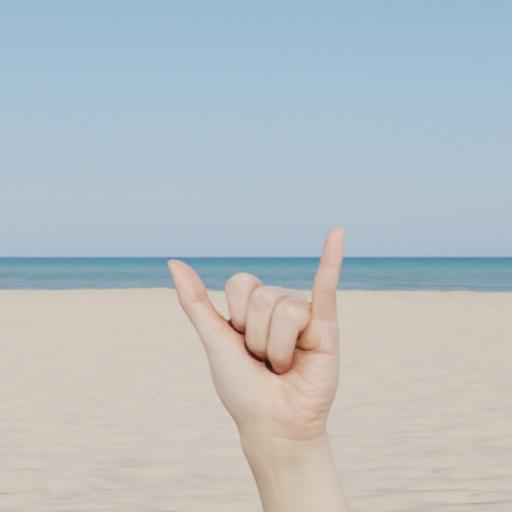Y: (164, 219, 349, 448)
